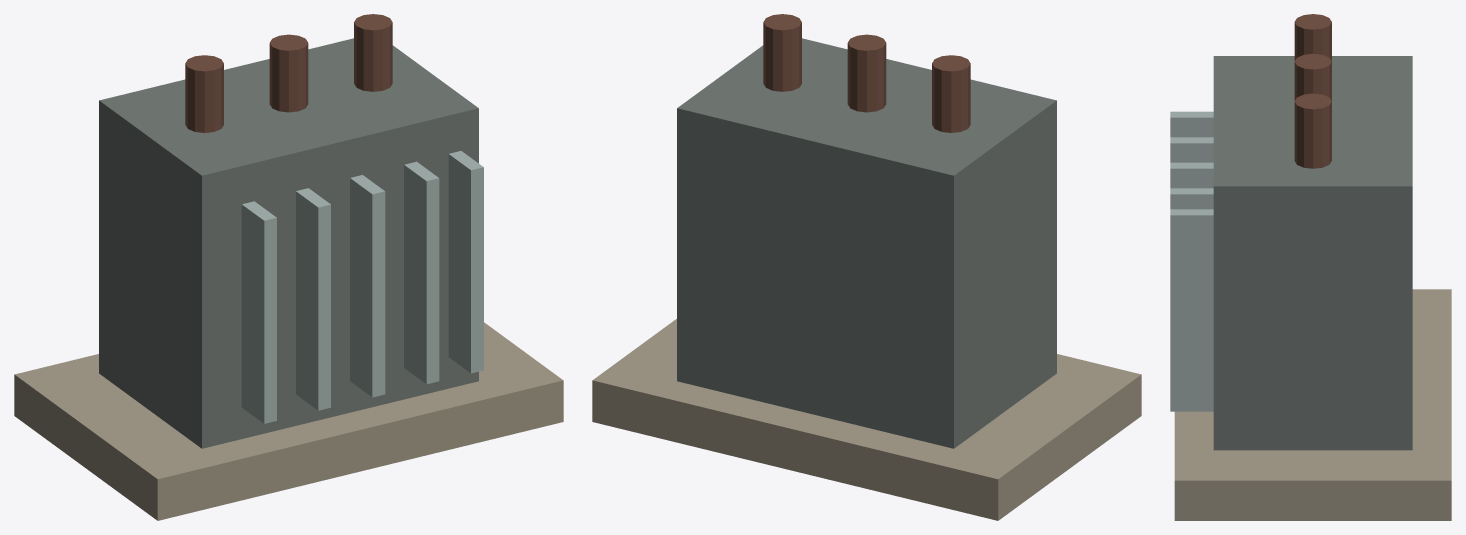
File: 045_transformer_unit.glb
3 renders of one model, left to right at view 1: azimuth 30°, elevation 25°; view 2: azimuth 150°, elevation 25°; view 3: azimuth 270°, elevation 25°, orthographic. The views are drawn at different scales.
Visible parts, largest first — view 1: Transformer unit; view 2: Transformer unit; view 3: Transformer unit.
Boxes of the visible parts, x1,y1,x2,y2 form: Transformer unit: (14, 14, 563, 520); Transformer unit: (592, 14, 1141, 520); Transformer unit: (1170, 14, 1451, 520).
Bounding box in the file's own units: 2.55 × 2.26 × 1.58.
